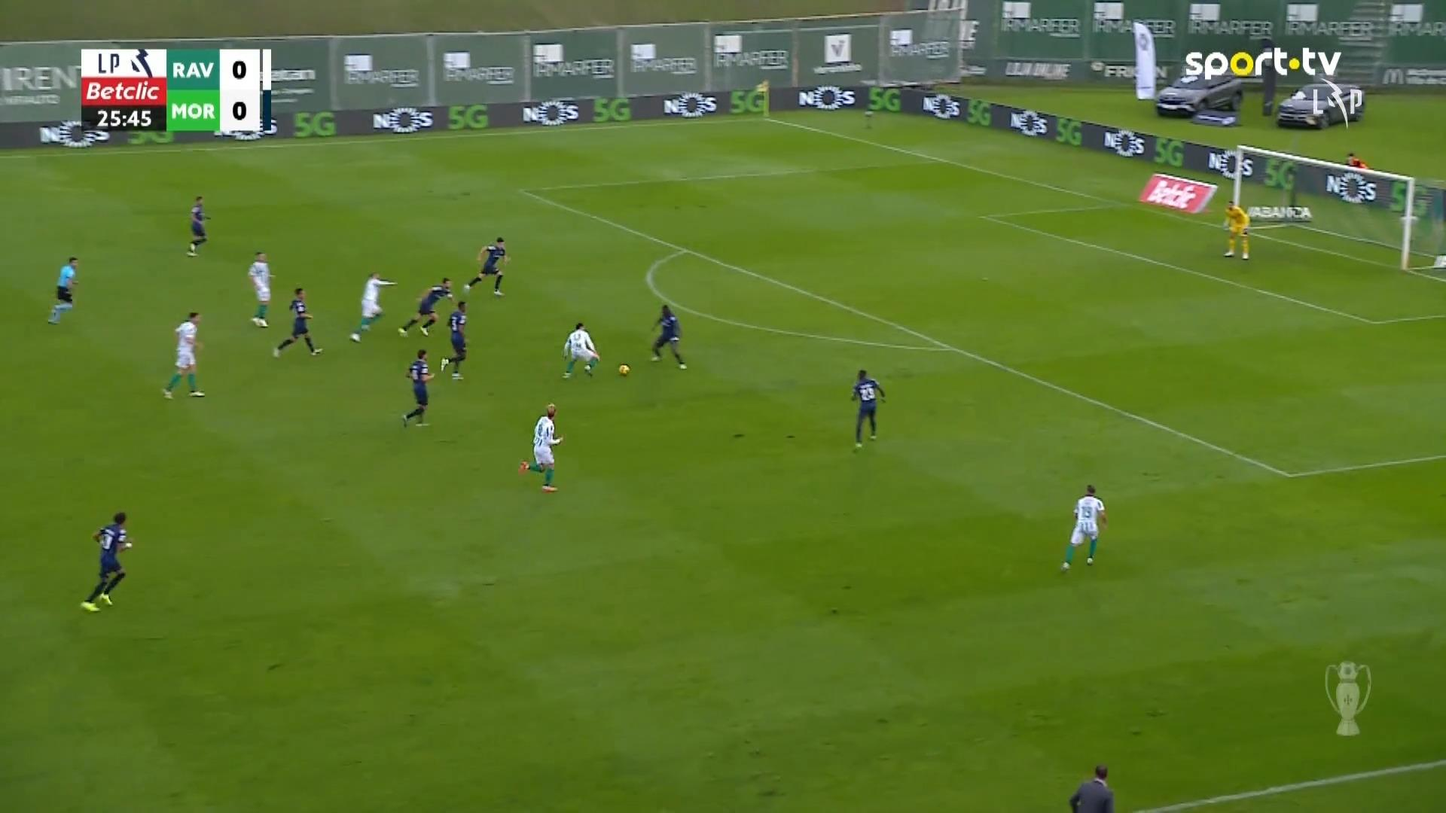ball: (618, 364, 629, 376)
goalkeeper: (1222, 198, 1249, 259)
player: (79, 510, 133, 611), (517, 402, 564, 492), (1060, 483, 1107, 571), (161, 310, 206, 399), (272, 287, 323, 358), (349, 270, 397, 343), (397, 276, 453, 336), (850, 368, 886, 449), (462, 236, 509, 297), (400, 348, 434, 428), (648, 303, 687, 369), (439, 299, 468, 380), (561, 321, 599, 379), (248, 251, 274, 327), (185, 195, 210, 257)
referee: (1069, 763, 1114, 811), (47, 255, 78, 324)
